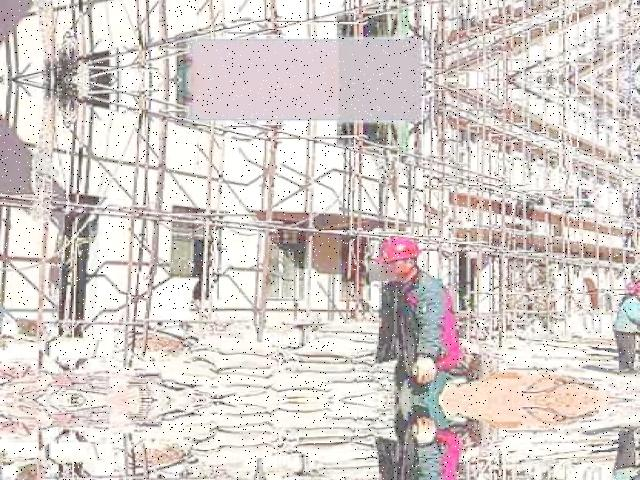Helmet: (372, 234, 429, 269)
